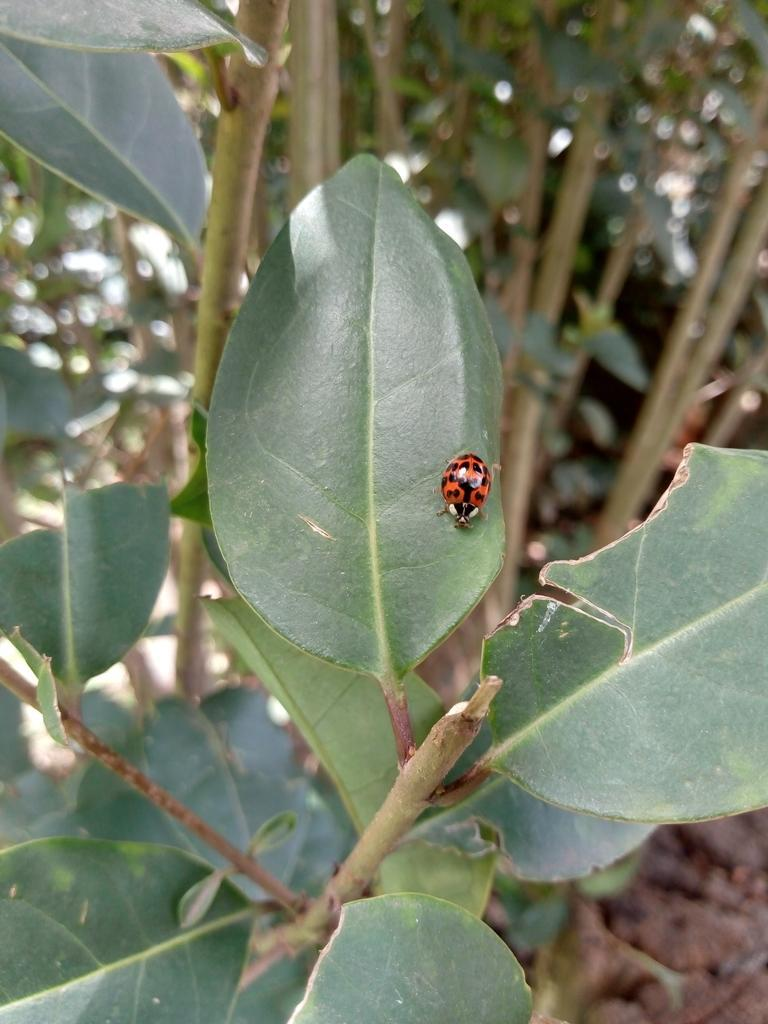ladybug: (437, 451, 504, 532)
